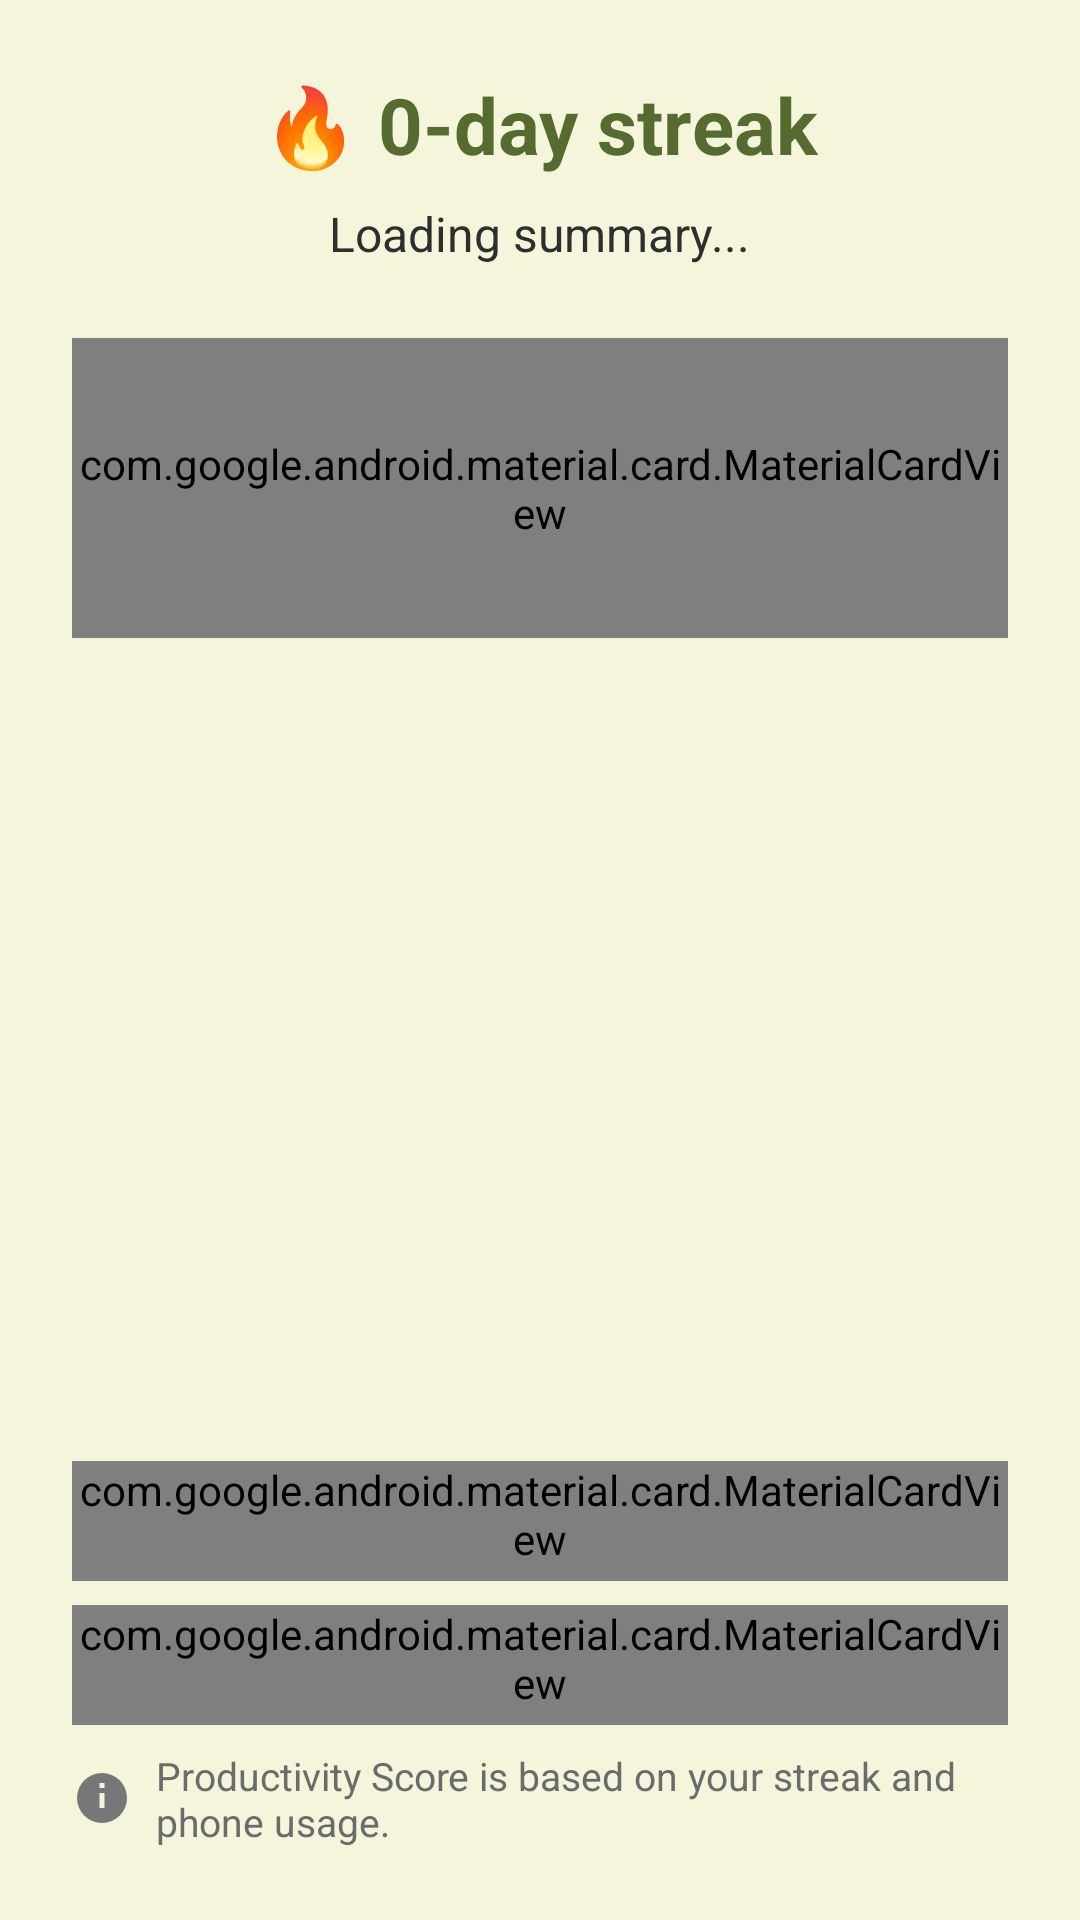

Where to tap for icons on this 1080x1920 app screen, as (x=x, y=y):
Info: (x=102, y=1798)
